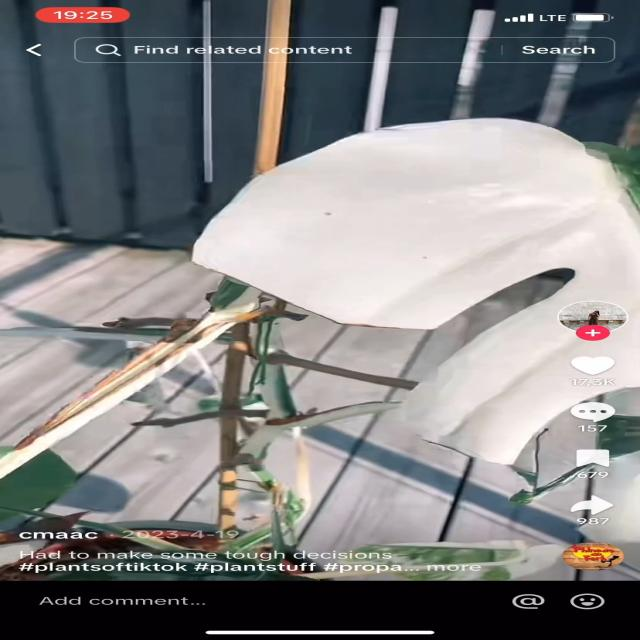lisc_variegata: (190, 117, 640, 544), (190, 117, 640, 470)
roslina_variegata: (45, 116, 638, 581)
